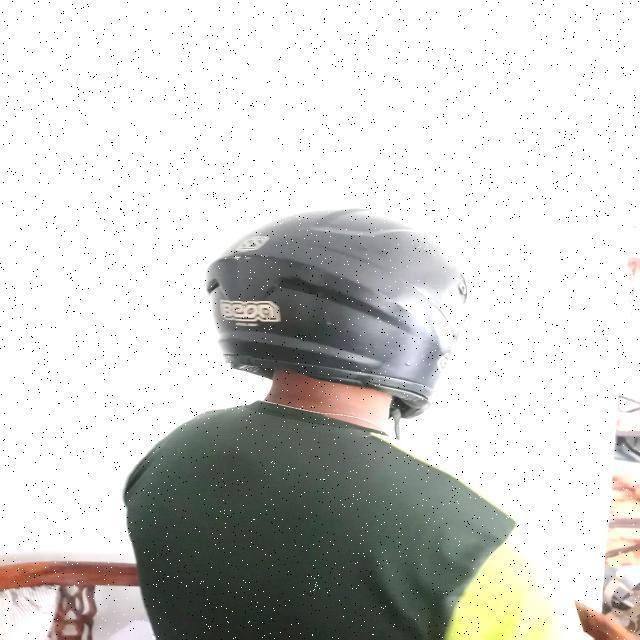helmet: (208, 210, 465, 440)
